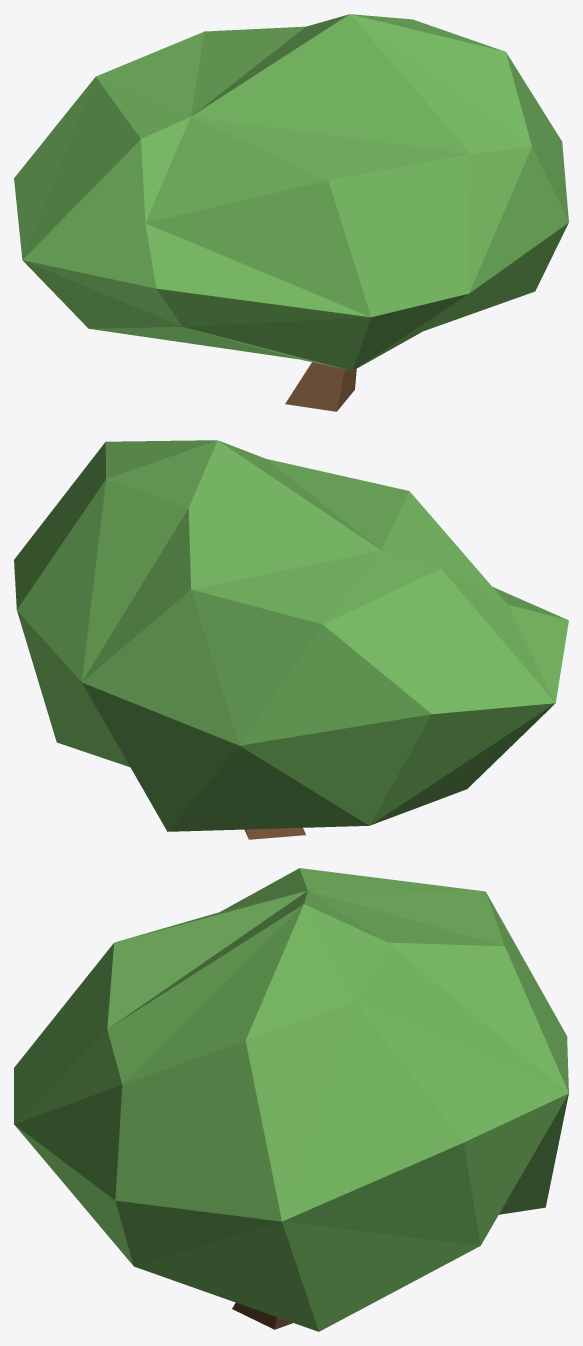
File: Env_Bush01_1.fbx
3 renders of one model, top to bottom at view 1: azimuth 30°, elevation 25°; view 2: azimuth 150°, elevation 25°; view 3: azimuth 270°, elevation 25°, orthographic. The views are drawn at different scales.
Parts seen in each view (by area): view 1: Env_Bush01_1; view 2: Env_Bush01_1; view 3: Env_Bush01_1.
Boxes of the visible parts, bbox=[...] form: Env_Bush01_1: bbox=[14, 14, 568, 411]; Env_Bush01_1: bbox=[14, 440, 568, 839]; Env_Bush01_1: bbox=[14, 868, 568, 1331].
Size of what is drawn, in the model's own units: 125 by 96.4 by 82.4.
